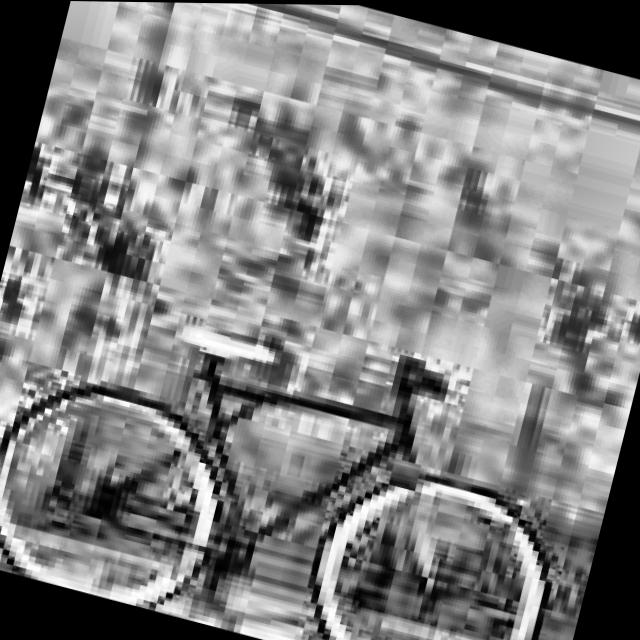motorcycle: (0, 231, 602, 640)
